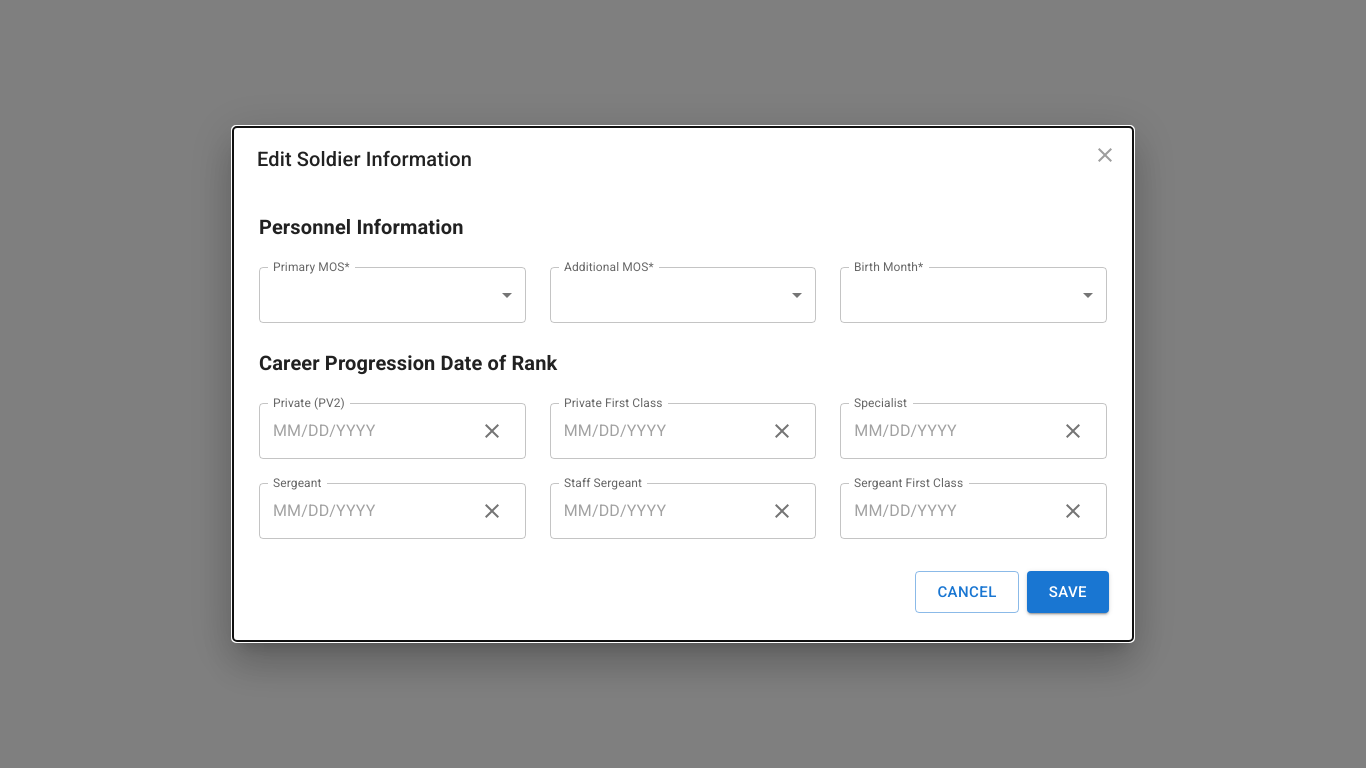
Test: SoldierEditDialog › validates required fields on form submission
Submit the form without filling in required fields
Click the button "Save" at [1068, 592], box 1027,571 -> 1109,613
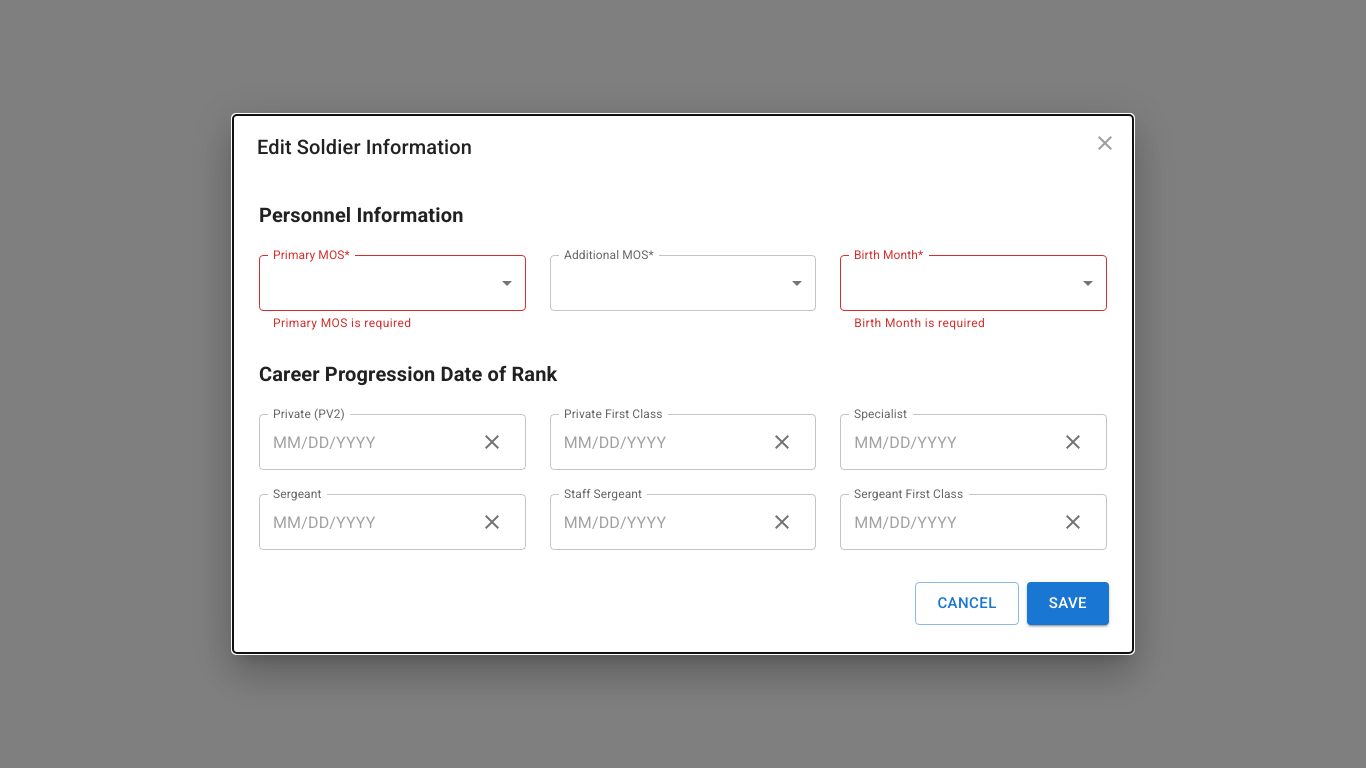
Now the text "Primary MOS is required" is shown, box 273,316 -> 411,330
Now the text "Birth Month is required" is shown, box 854,316 -> 985,330
